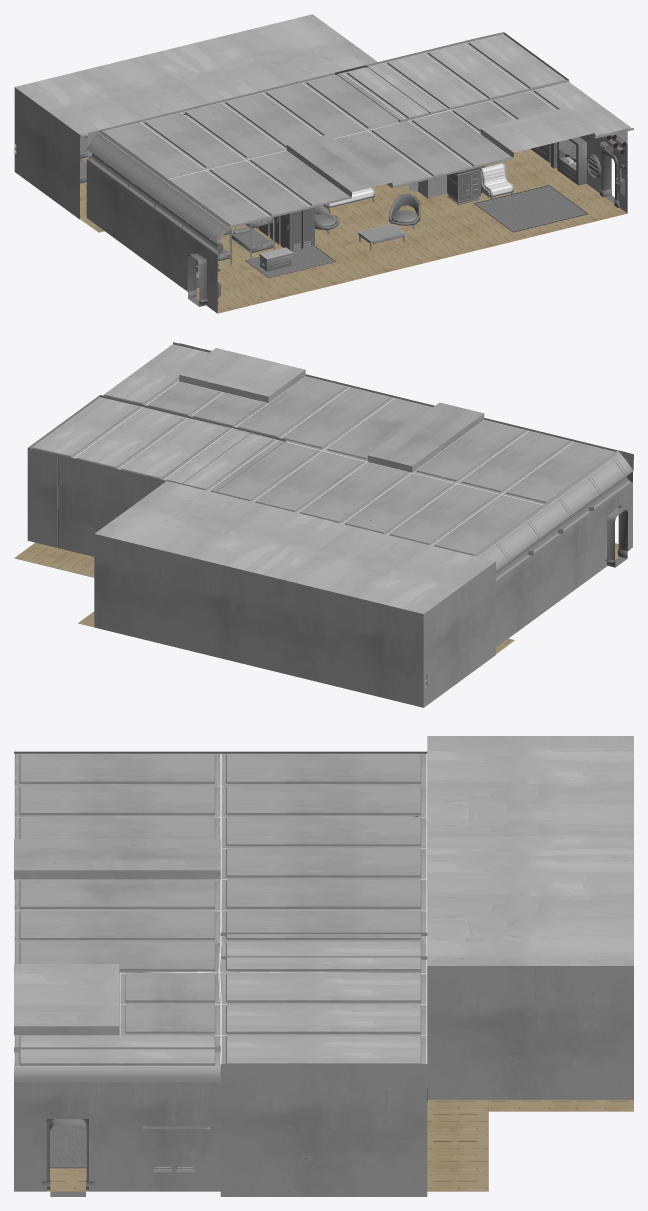
The model's file is MSH_LivingQuarters_L3_R3_BrotherOfSteel_optimized.fbx.
The picture shows the model from 3 angles, top to bottom: view 1: azimuth 30°, elevation 25°; view 2: azimuth 150°, elevation 25°; view 3: azimuth 270°, elevation 25°; orthographic projection. The views are drawn at different scales.
Parts seen in each view (by area): view 1: lightmap0, lightmap1; view 2: lightmap0, lightmap1; view 3: lightmap0, lightmap1.
Part boxes in pixels (<box>): lightmap0: <box>14,14,633,313</box>; lightmap1: <box>80,149,627,313</box>; lightmap0: <box>27,342,633,707</box>; lightmap1: <box>14,542,619,654</box>; lightmap0: <box>14,736,633,1196</box>; lightmap1: <box>46,1100,633,1191</box>.
Bounding box in the file's own units: 31 × 6.2 × 24.77.
Materials: 9 (7 with a texture image).
